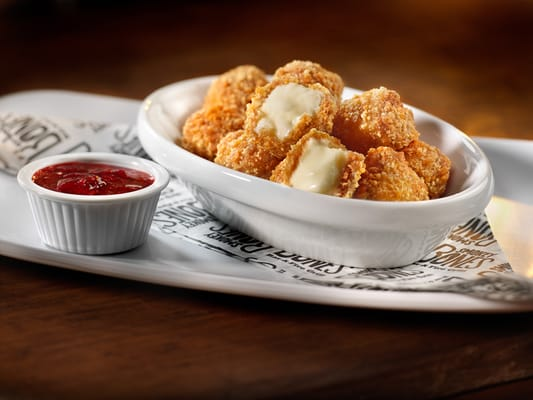sushi: (134, 67, 515, 271), (16, 149, 170, 257)
